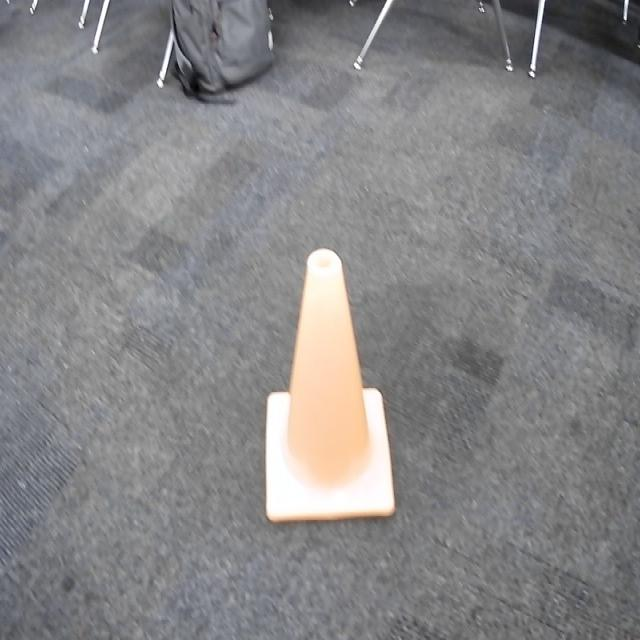cone: (265, 246, 396, 524)
